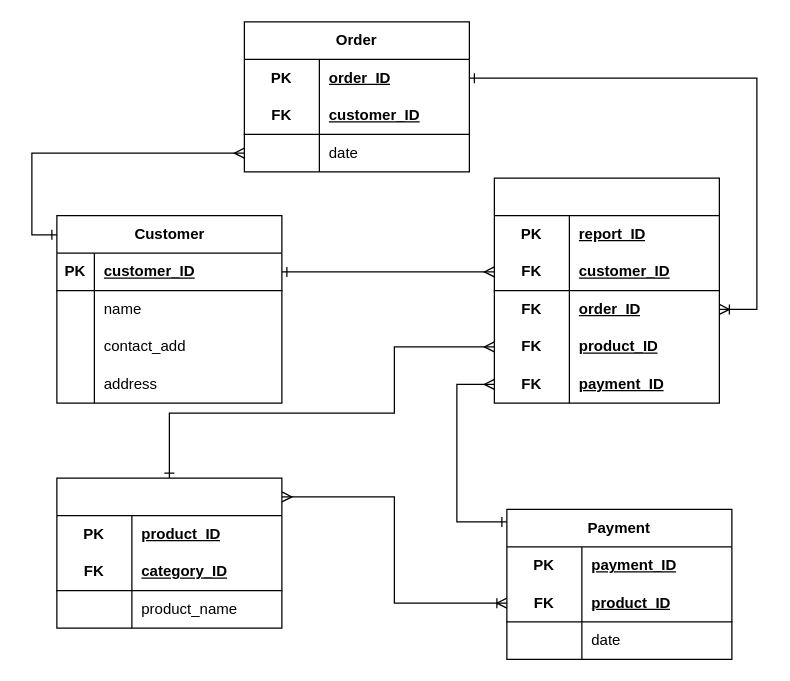
Image size: 790x681. Some labels were removed from this diagram. The shapes that lost their labels are listed below. From the top down, each one's box as (x1, y1, x2, y2) in pixels, then its label:
(493, 177, 719, 403): Transaction Reports
(56, 477, 282, 628): Products
